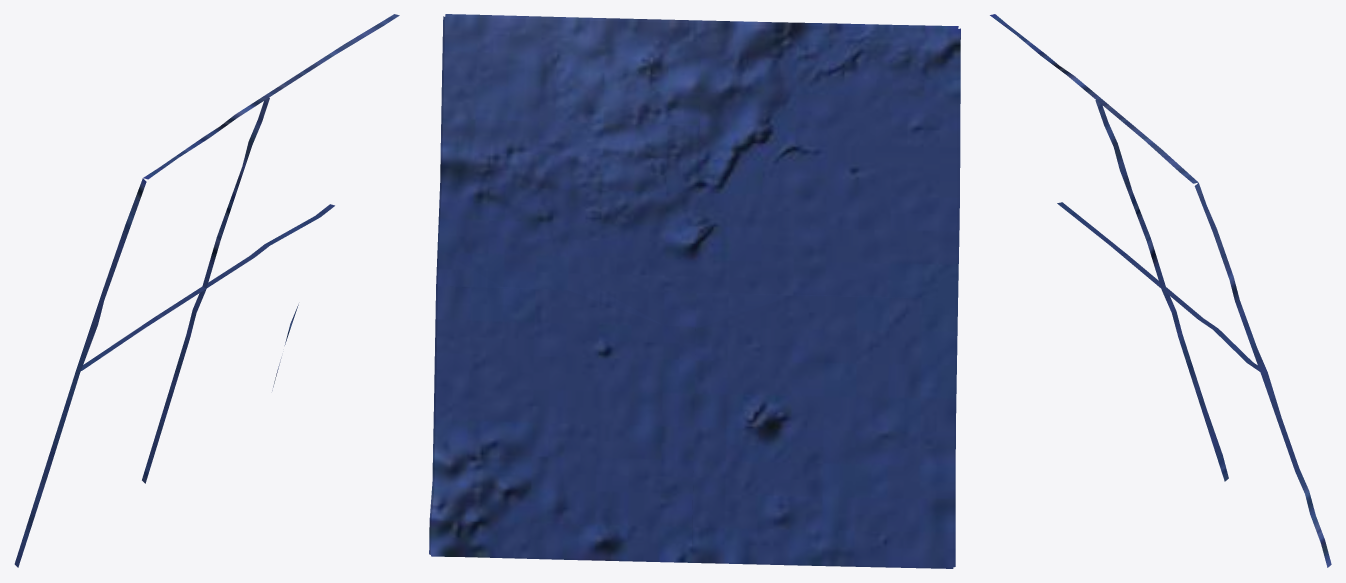
The picture shows the model from 3 angles, left to right: view 1: azimuth 30°, elevation 25°; view 2: azimuth 150°, elevation 25°; view 3: azimuth 270°, elevation 25°; orthographic projection. The views are drawn at different scales.
Size of the model in its own units: 312556 by 300387 by 225732.
Materials: 1 (1 with a texture image).
